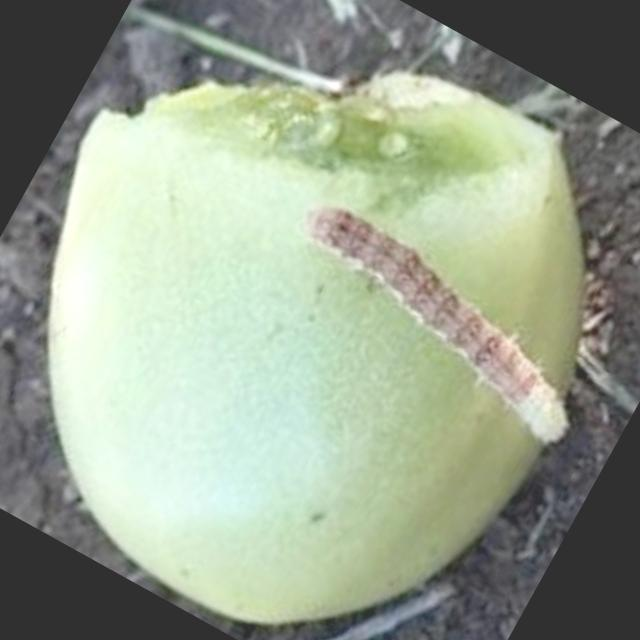Cotton bollworm: (258, 174, 632, 461)
